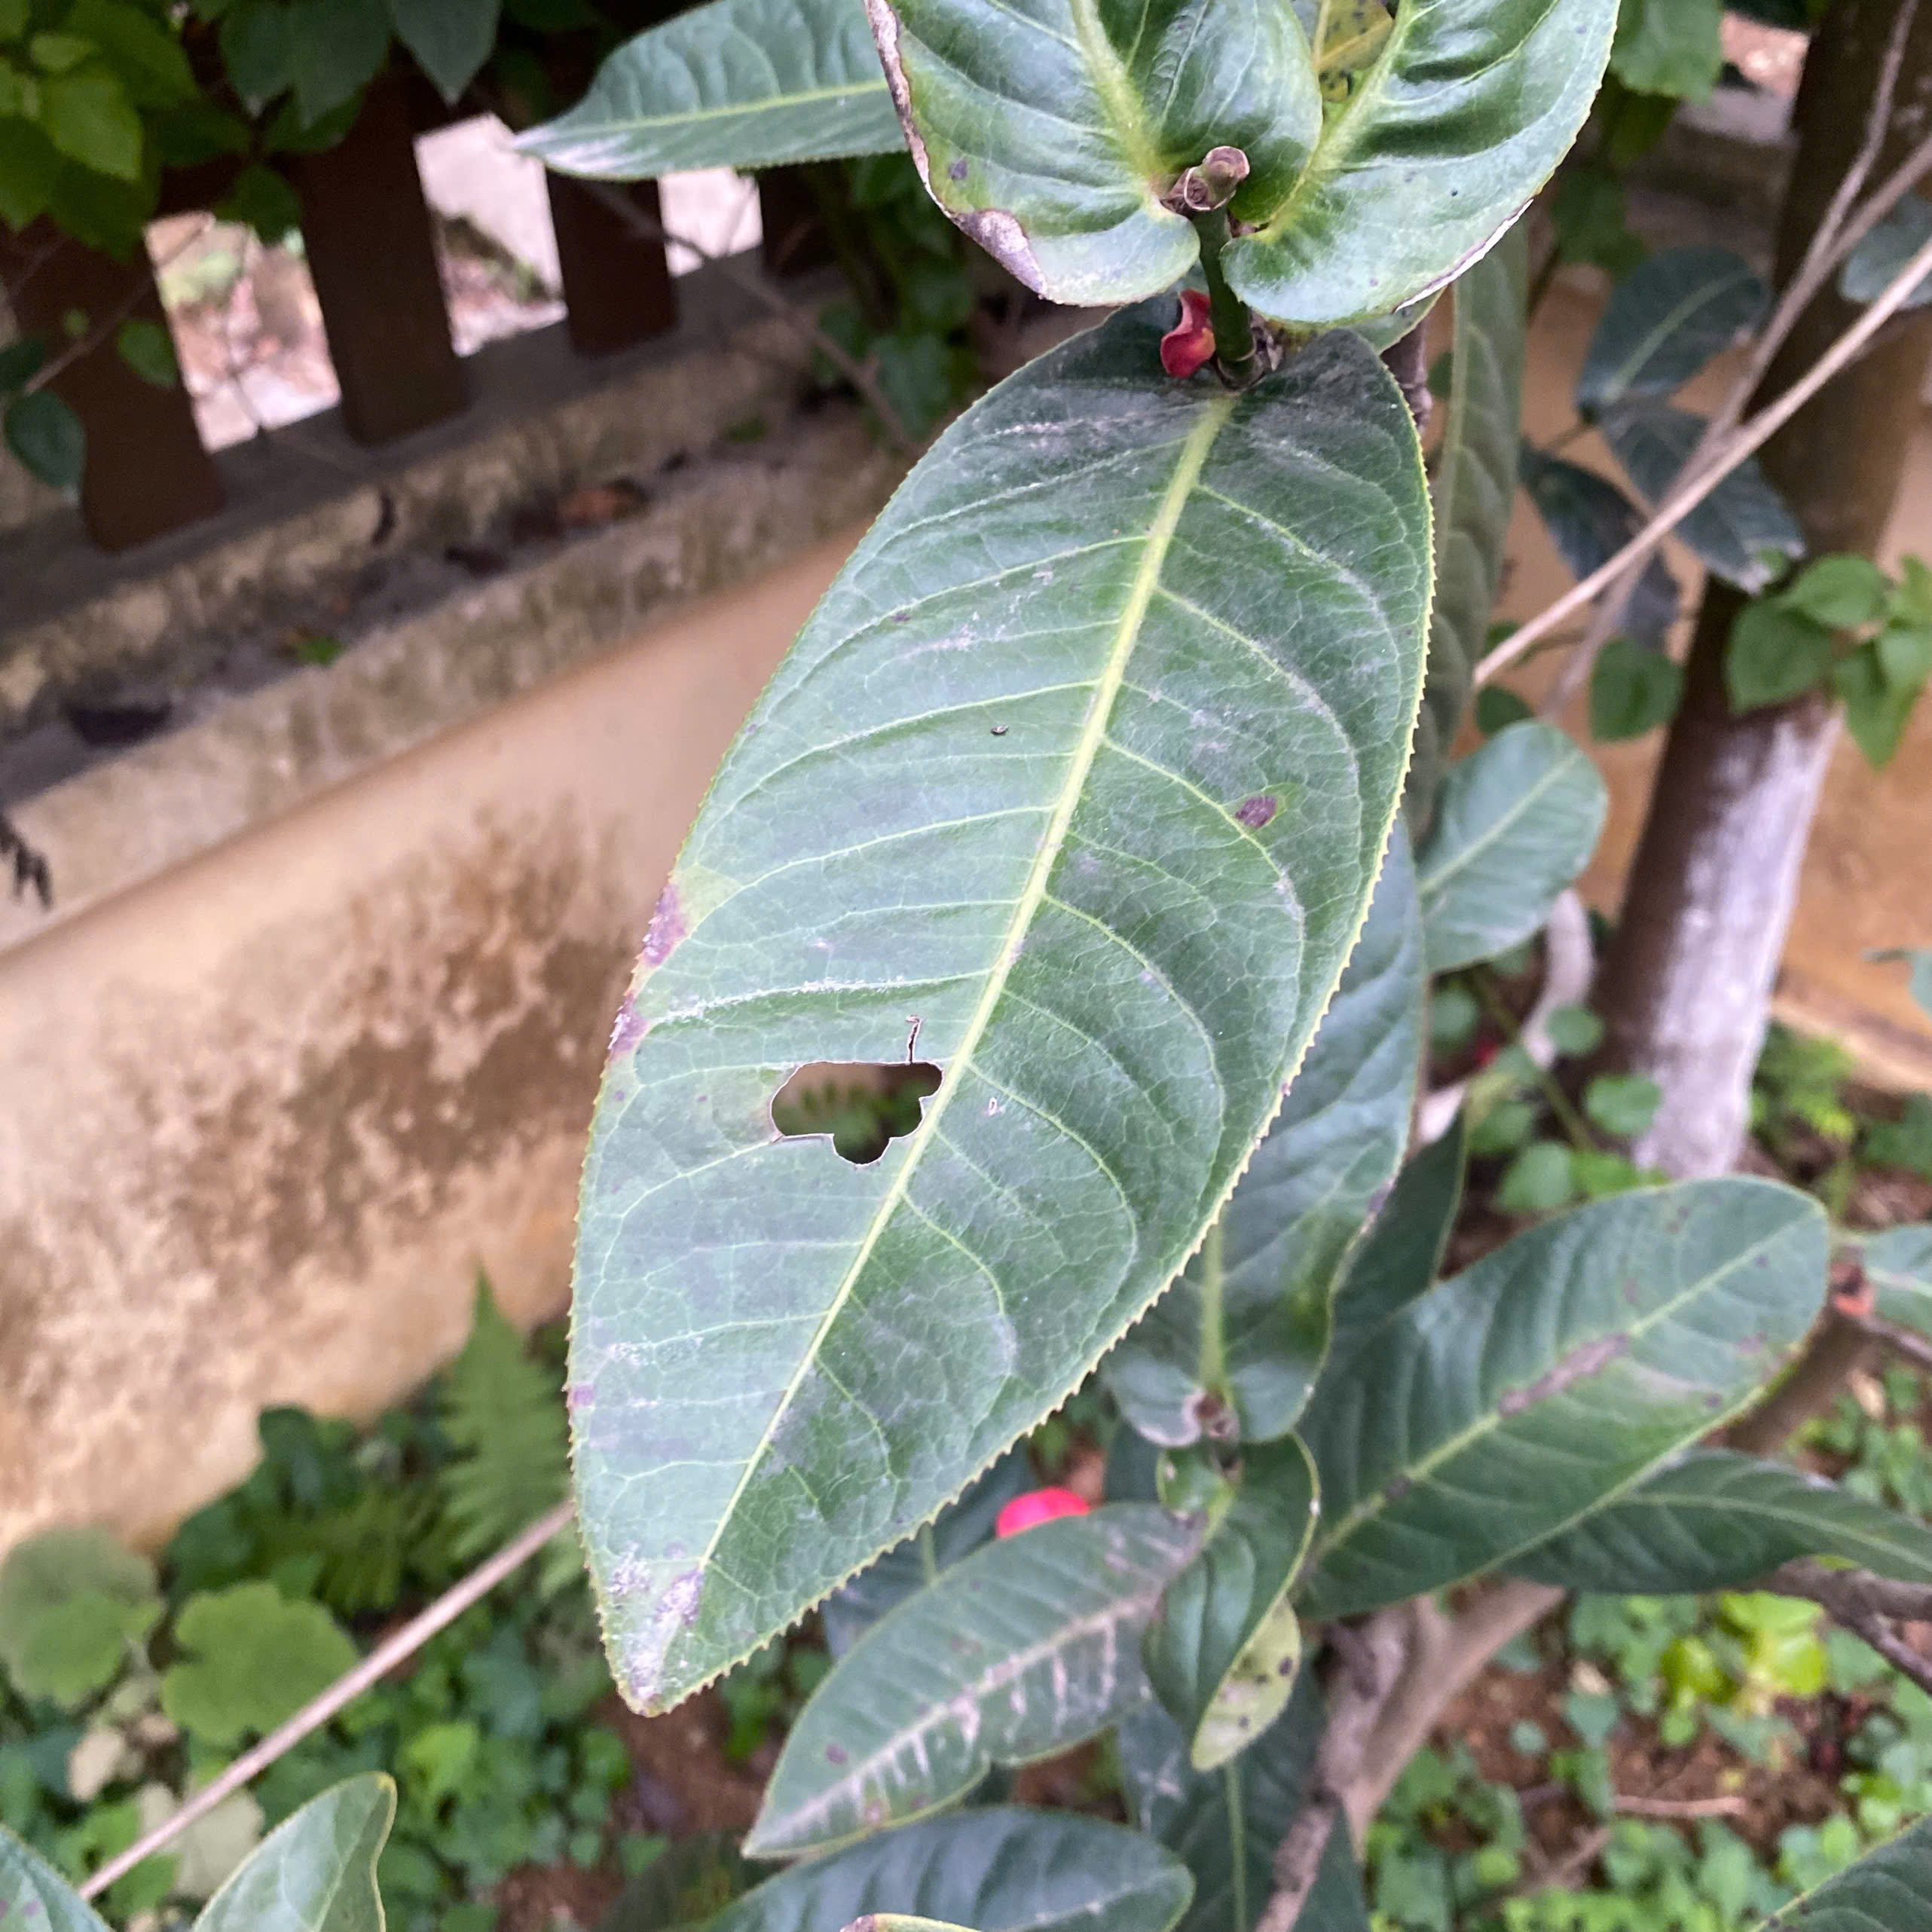hoa_hai_duong: (541, 239, 1502, 1730)
